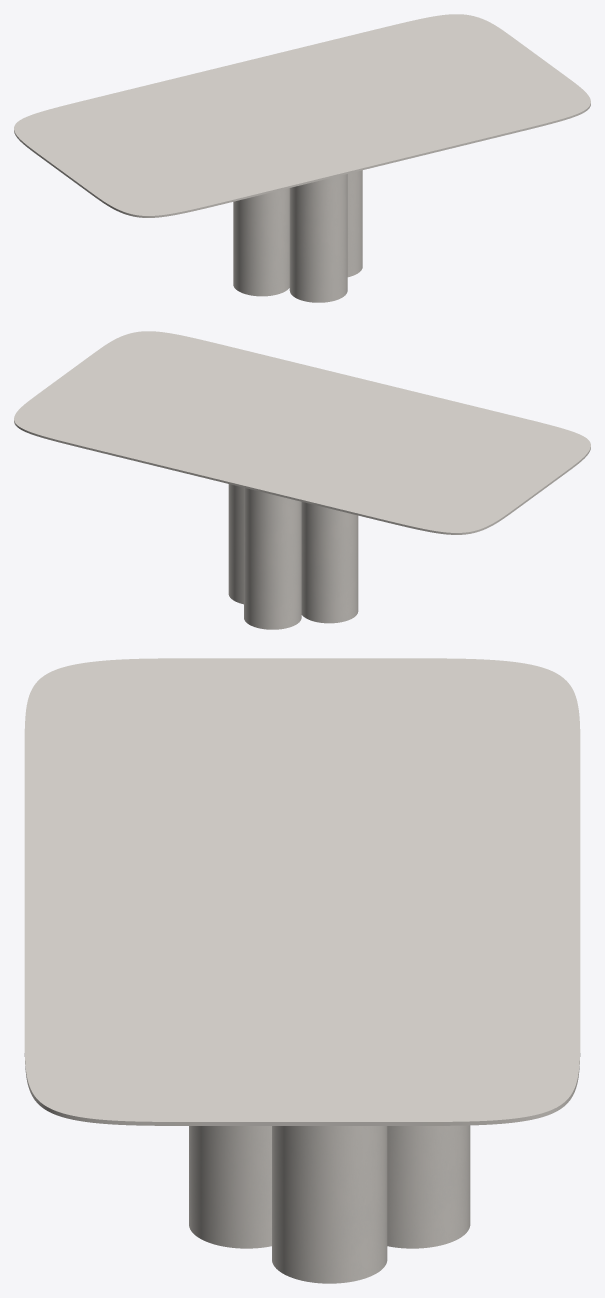
Rendered from purewhite_softrecta_facet_secondtable.glb.
The picture shows the model from 3 angles, top to bottom: view 1: azimuth 30°, elevation 25°; view 2: azimuth 150°, elevation 25°; view 3: azimuth 270°, elevation 25°; orthographic projection. The views are drawn at different scales.
Parts seen in each view (by area): view 1: facet_softrecta, secondtable; view 2: facet_softrecta, secondtable; view 3: facet_softrecta, secondtable.
Boxes of the visible parts, bbox=[...] form: facet_softrecta: bbox=[14, 14, 590, 217]; secondtable: bbox=[233, 170, 362, 302]; facet_softrecta: bbox=[14, 331, 590, 534]; secondtable: bbox=[228, 484, 358, 629]; facet_softrecta: bbox=[24, 658, 580, 1125]; secondtable: bbox=[189, 1125, 470, 1283].
Bounding box in the file's own units: 7.5 × 2.5 × 3.8.
Materials: 1 (1 with a texture image).
